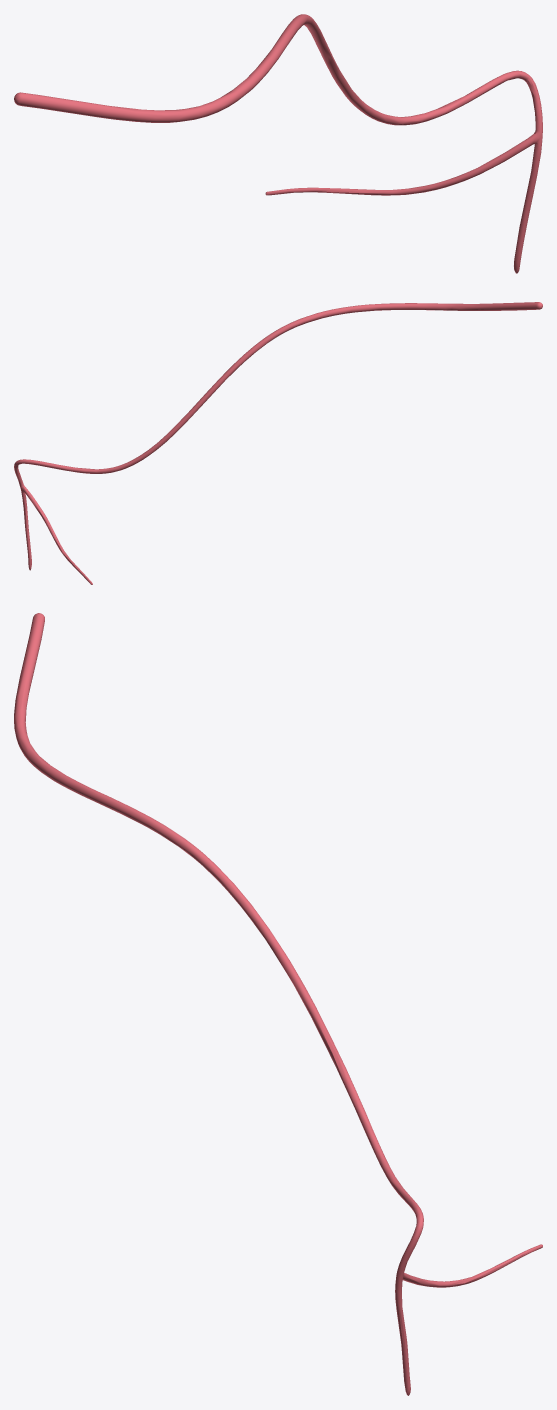
The model's file is fma10681_fj2251.glb.
3 views of the same model, one above another, from view 1: azimuth 30°, elevation 25°; view 2: azimuth 150°, elevation 25°; view 3: azimuth 270°, elevation 25° (orthographic). The views are drawn at different scales.
Parts seen in each view (by area): view 1: FMA10681_FJ2251; view 2: FMA10681_FJ2251; view 3: FMA10681_FJ2251.
Part boxes in pixels (box(x1,y1,x2,y2)): FMA10681_FJ2251: box(14, 14, 542, 273); FMA10681_FJ2251: box(14, 302, 542, 584); FMA10681_FJ2251: box(14, 613, 542, 1395).
Size of the model in its own units: 0.0971 by 0.0633 by 0.0654.
